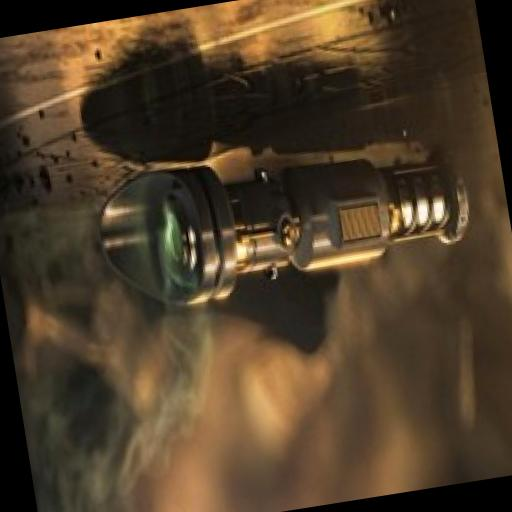lightsaber: (86, 112, 485, 322)
